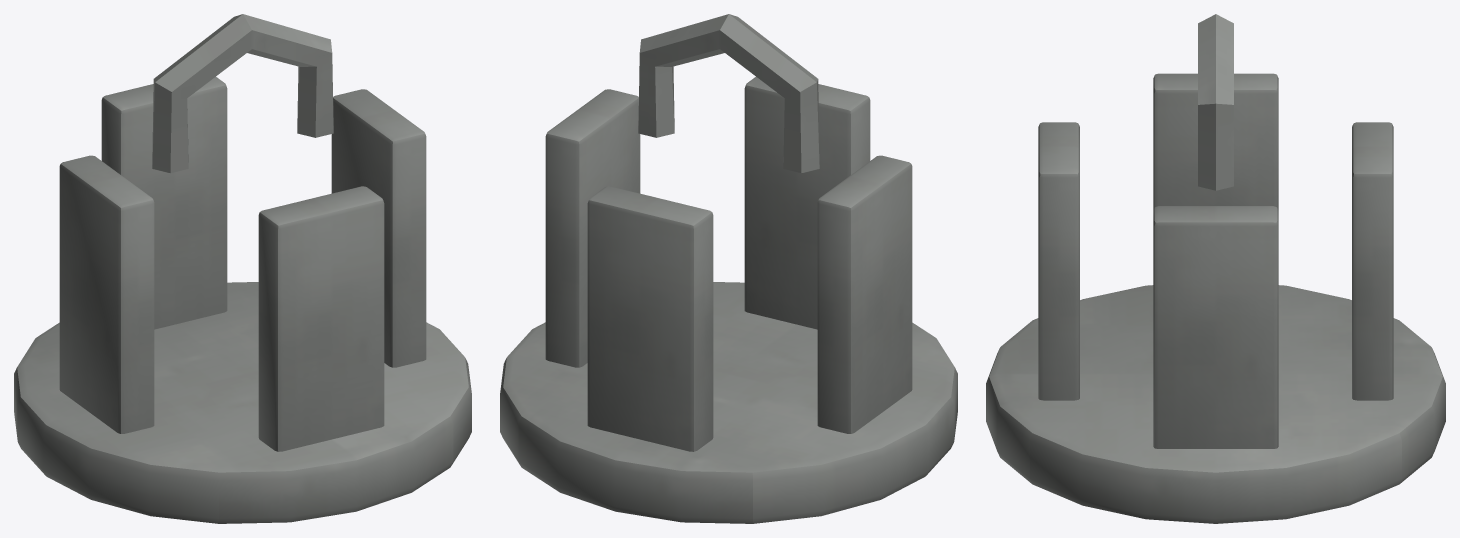
Rendered from EST-ARM-002.glb.
3 views of the same model, side by side, from view 1: azimuth 30°, elevation 25°; view 2: azimuth 150°, elevation 25°; view 3: azimuth 270°, elevation 25° (orthographic).
Visible parts, largest first — view 1: EST-ARM-002_base, EST-ARM-002_perna.003, EST-ARM-002_perna.002, EST-ARM-002_perna.001, EST-ARM-002_perna, EST-ARM-002_clipe; view 2: EST-ARM-002_base, EST-ARM-002_perna.001, EST-ARM-002_perna.002, EST-ARM-002_perna.003, EST-ARM-002_perna, EST-ARM-002_clipe; view 3: EST-ARM-002_base, EST-ARM-002_perna, EST-ARM-002_perna.002, EST-ARM-002_perna.001, EST-ARM-002_perna.003, EST-ARM-002_clipe.
Part boxes in pixels (left/top/right/bottom): EST-ARM-002_base: left=14, top=282, right=471, bottom=523; EST-ARM-002_perna.003: left=258, top=186, right=384, bottom=451; EST-ARM-002_perna.002: left=59, top=155, right=154, bottom=433; EST-ARM-002_perna.001: left=101, top=77, right=227, bottom=329; EST-ARM-002_perna: left=331, top=89, right=426, bottom=367; EST-ARM-002_clipe: left=152, top=14, right=333, bottom=173; EST-ARM-002_base: left=500, top=282, right=957, bottom=523; EST-ARM-002_perna.001: left=587, top=186, right=713, bottom=451; EST-ARM-002_perna.002: left=817, top=155, right=912, bottom=433; EST-ARM-002_perna.003: left=744, top=77, right=870, bottom=329; EST-ARM-002_perna: left=545, top=89, right=640, bottom=367; EST-ARM-002_clipe: left=638, top=14, right=819, bottom=173; EST-ARM-002_base: left=986, top=285, right=1445, bottom=523; EST-ARM-002_perna: left=1153, top=206, right=1278, bottom=448; EST-ARM-002_perna.002: left=1153, top=73, right=1278, bottom=210; EST-ARM-002_perna.001: left=1352, top=122, right=1393, bottom=400; EST-ARM-002_perna.003: left=1038, top=122, right=1079, bottom=400; EST-ARM-002_clipe: left=1198, top=14, right=1233, bottom=190.
Bounding box in the file's own units: 0.044 × 0.044 × 0.044.
1 material, 1 textured.
